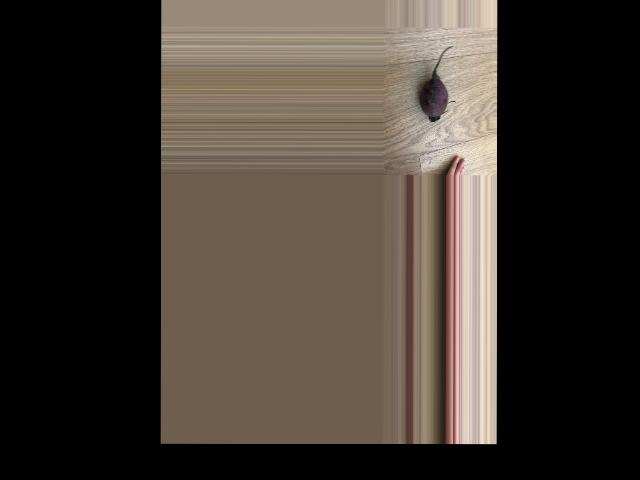beet: (420, 45, 455, 121)
